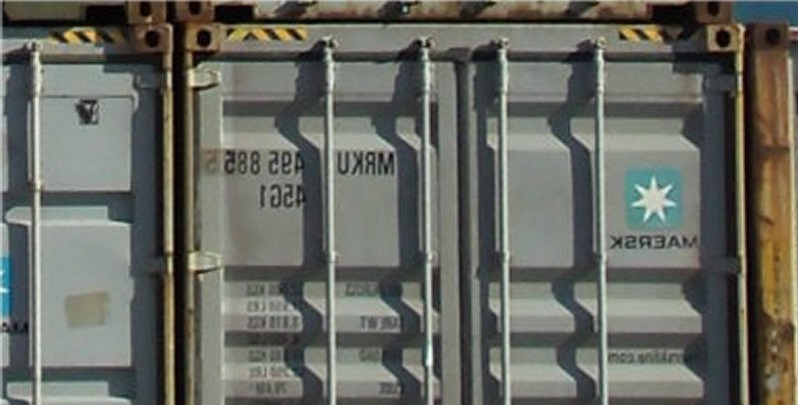container_door: (184, 22, 753, 385)
